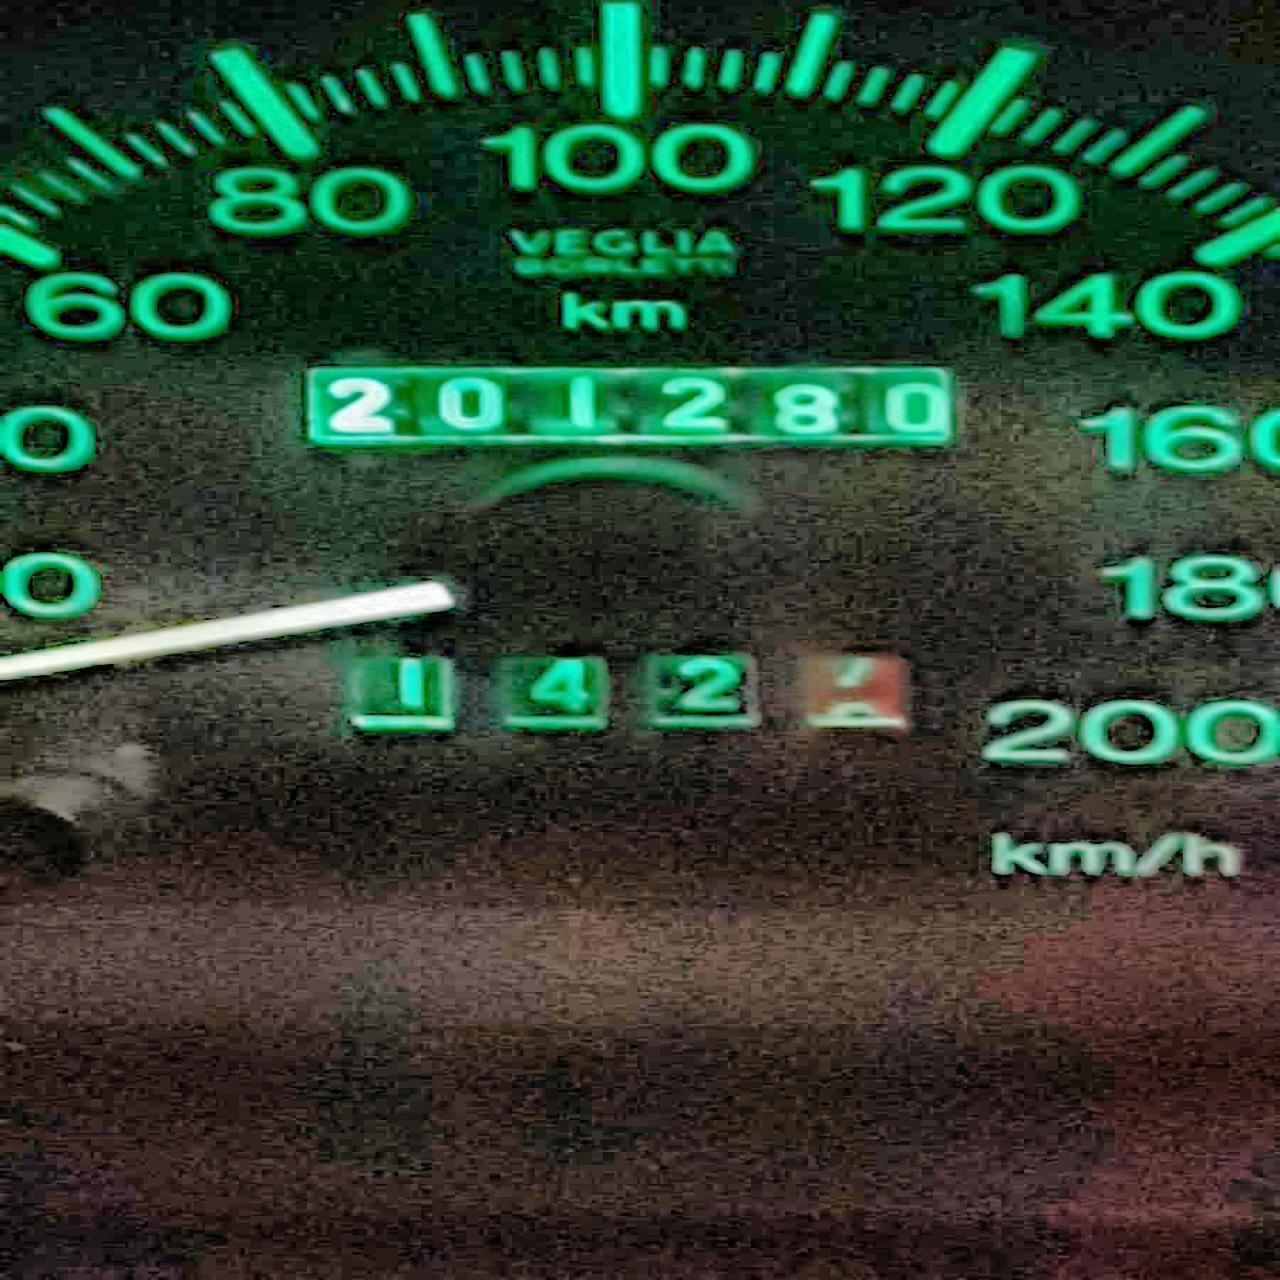0: (434, 374, 505, 431), (881, 380, 952, 434)
1: (564, 373, 599, 430)
2: (324, 374, 397, 435), (656, 374, 734, 431)
8: (769, 381, 840, 435)
odometer: (291, 358, 962, 452)
